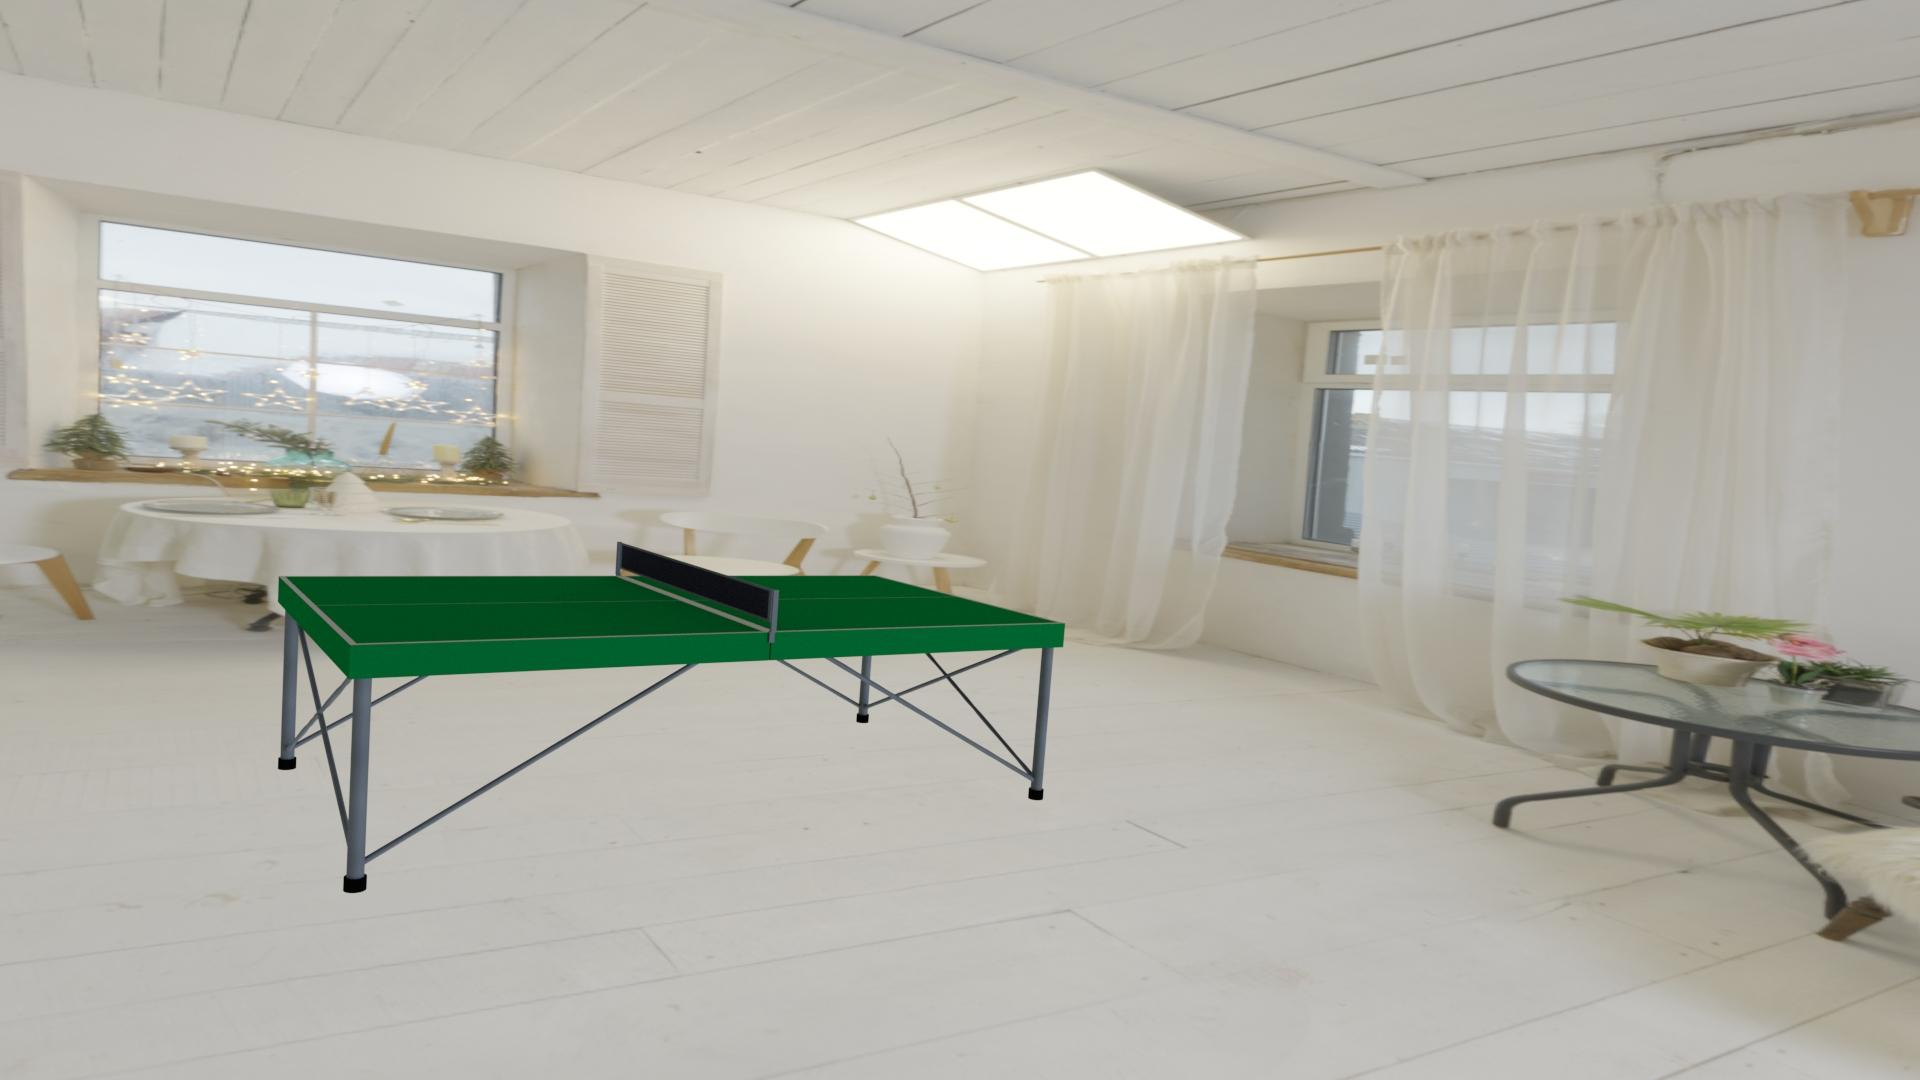table: (285, 576, 1059, 644)
